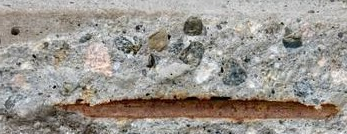Exposed reinforcement: (52, 97, 339, 121)
Spalling: (1, 10, 347, 134)
